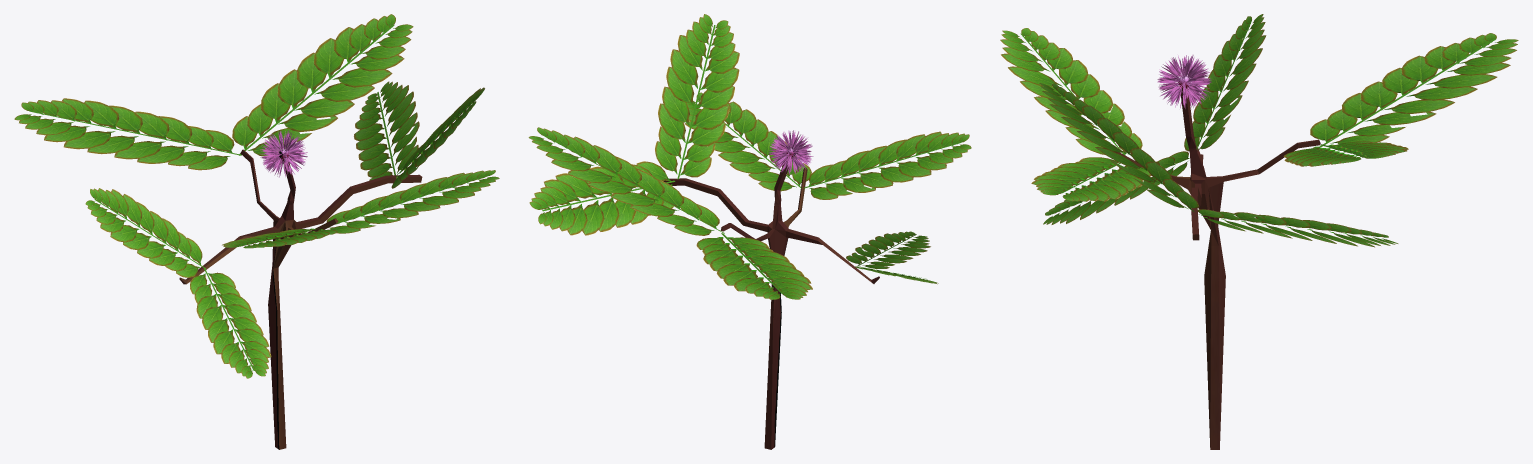
Rendered from MORIVIVI.glb.
The picture shows the model from 3 angles, left to right: view 1: azimuth 30°, elevation 25°; view 2: azimuth 150°, elevation 25°; view 3: azimuth 270°, elevation 25°; orthographic projection. The views are drawn at different scales.
Parts seen in each view (by area): view 1: hOJA 1, hOJA 1.006, Cube, hOJA 1.001, hOJA 1.002, hOJA 1.005, hOJA 1.004, hOJA 1.007, Mesh, hOJA 1.003; view 2: hOJA 1.007, hOJA 1, hOJA 1.003, hOJA 1.005, Cube, hOJA 1.006, hOJA 1.004, hOJA 1.002, Mesh; view 3: hOJA 1.006, Cube, hOJA 1.003, hOJA 1.007, hOJA 1.002, hOJA 1.004, hOJA 1.005, hOJA 1, Mesh, hOJA 1.001.
Part boxes in pixels (x1,y1,x2,y2): hOJA 1: [232, 14, 413, 156]; hOJA 1.006: [14, 98, 241, 170]; Cube: [179, 149, 422, 449]; hOJA 1.001: [190, 268, 271, 378]; hOJA 1.002: [85, 188, 206, 277]; hOJA 1.005: [353, 81, 419, 180]; hOJA 1.004: [326, 170, 499, 233]; hOJA 1.007: [391, 87, 484, 188]; Mesh: [260, 130, 307, 177]; hOJA 1.003: [222, 228, 337, 248]; hOJA 1.007: [655, 14, 739, 179]; hOJA 1: [528, 127, 724, 235]; hOJA 1.003: [801, 131, 971, 199]; hOJA 1.005: [529, 161, 675, 235]; Cube: [663, 157, 879, 449]; hOJA 1.006: [696, 233, 812, 299]; hOJA 1.004: [684, 92, 811, 191]; hOJA 1.002: [846, 231, 930, 268]; Mesh: [769, 130, 813, 174]; hOJA 1.006: [1310, 33, 1518, 146]; Cube: [1104, 86, 1320, 449]; hOJA 1.003: [1000, 28, 1142, 155]; hOJA 1.007: [1039, 83, 1199, 211]; hOJA 1.002: [1184, 14, 1266, 151]; hOJA 1.004: [1031, 157, 1151, 201]; hOJA 1.005: [1197, 209, 1398, 247]; hOJA 1: [1283, 141, 1408, 166]; Mesh: [1157, 55, 1211, 109]; hOJA 1.001: [1043, 151, 1189, 224].
Size of what is drawn, in the model's own units: 4.66 by 4.52 by 4.8.
Materials: 9 (9 with a texture image).
